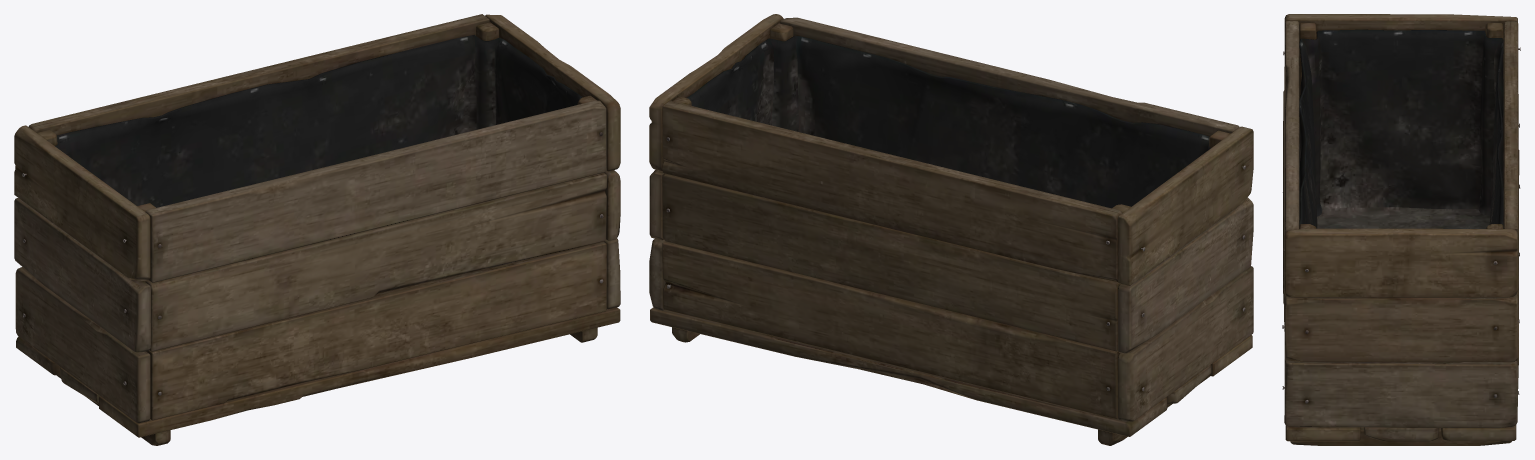
Rendered from planter_box_01.glb.
The picture shows the model from 3 angles, left to right: view 1: azimuth 30°, elevation 25°; view 2: azimuth 150°, elevation 25°; view 3: azimuth 270°, elevation 25°; orthographic projection. The views are drawn at different scales.
Visible parts, largest first — view 1: planter_box_01; view 2: planter_box_01; view 3: planter_box_01.
Boxes of the visible parts, box(x1,y1,x2,y2) form: planter_box_01: box(14, 14, 620, 445); planter_box_01: box(649, 14, 1253, 445); planter_box_01: box(1282, 14, 1520, 445).
Bounding box in the file's own units: 0.9126 × 0.4249 × 0.4137.
Materials: 1 (1 with a texture image).
